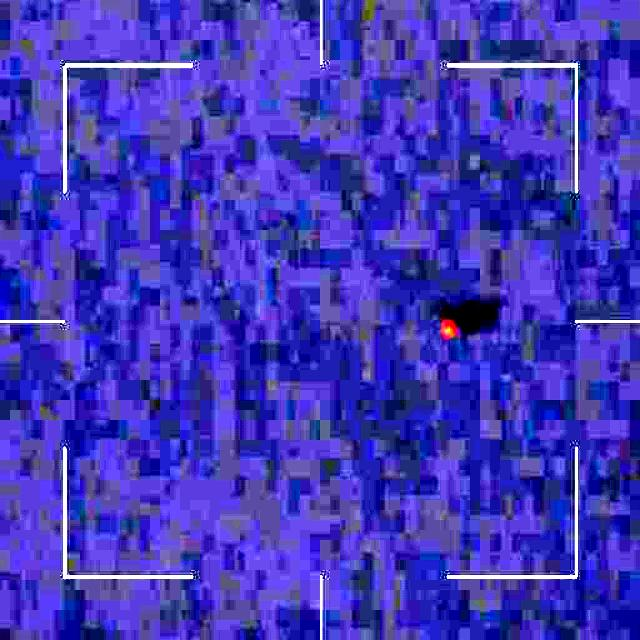bird: (439, 311, 468, 349)
